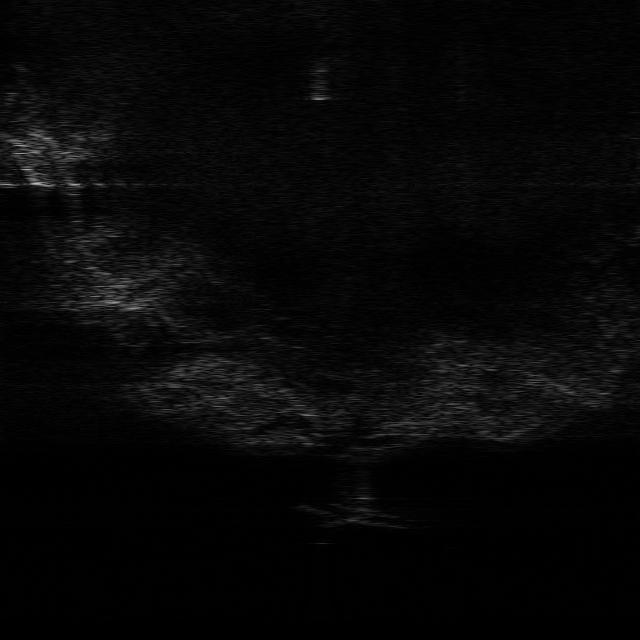plane: (298, 501, 412, 530)
